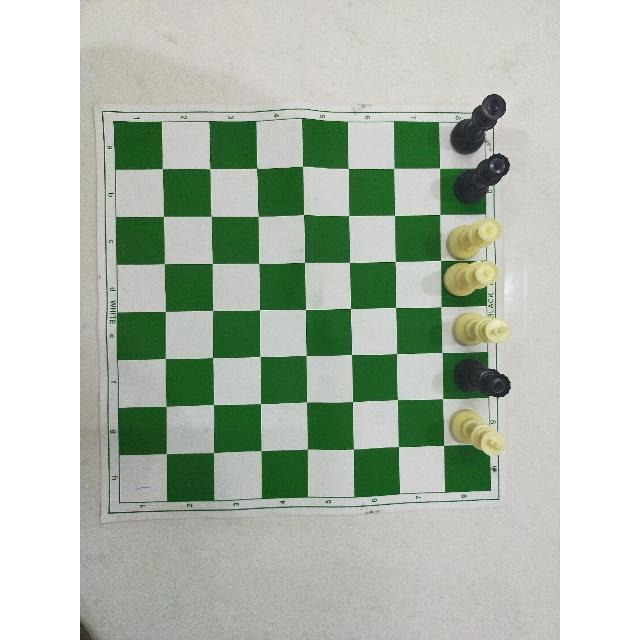black-king: (448, 90, 508, 156)
black-queen: (452, 150, 512, 207), (450, 354, 514, 401)
white-king: (445, 405, 509, 460), (449, 309, 512, 348)
white-queen: (443, 215, 504, 263), (440, 258, 500, 300)
